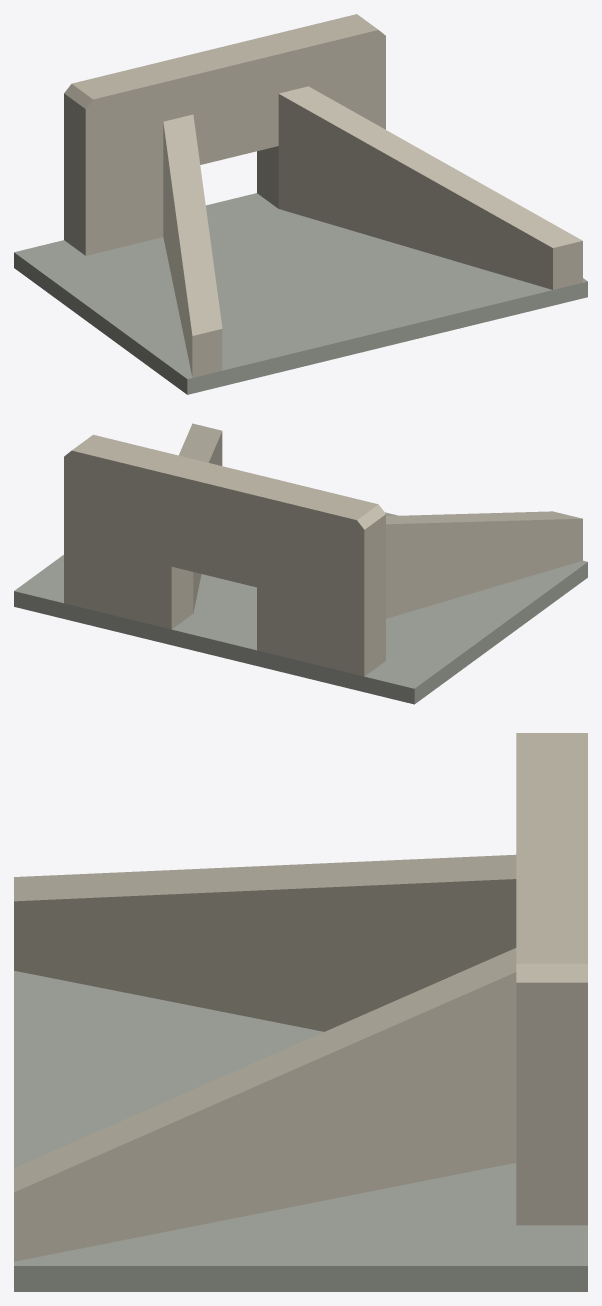
The picture shows the model from 3 angles, top to bottom: view 1: azimuth 30°, elevation 25°; view 2: azimuth 150°, elevation 25°; view 3: azimuth 270°, elevation 25°; orthographic projection. The views are drawn at different scales.
Parts seen in each view (by area): view 1: WholeGroundedInletApron, WholePiercedCulvertHeadwall, WholeRisingFlaredWing1, WholeRisingFlaredWing-1; view 2: WholePiercedCulvertHeadwall, WholeGroundedInletApron, WholeRisingFlaredWing-1, WholeRisingFlaredWing1; view 3: WholeRisingFlaredWing1, WholeGroundedInletApron, WholeRisingFlaredWing-1, WholePiercedCulvertHeadwall.
Boxes of the visible parts, x1,y1,x2,y2 form: WholeGroundedInletApron: (14, 193, 587, 394); WholePiercedCulvertHeadwall: (64, 14, 385, 255); WholeRisingFlaredWing1: (278, 86, 582, 289); WholeRisingFlaredWing-1: (163, 114, 222, 377); WholePiercedCulvertHeadwall: (64, 434, 385, 676); WholeGroundedInletApron: (14, 512, 587, 704); WholeRisingFlaredWing-1: (386, 511, 582, 618); WholeRisingFlaredWing1: (178, 423, 222, 612); WholeRisingFlaredWing1: (14, 948, 516, 1261); WholeGroundedInletApron: (14, 970, 587, 1291); WholeRisingFlaredWing-1: (14, 854, 516, 1031); WholePiercedCulvertHeadwall: (516, 733, 587, 1225).
Bounding box in the file's own units: 1.6 × 0.65 × 1.2.
